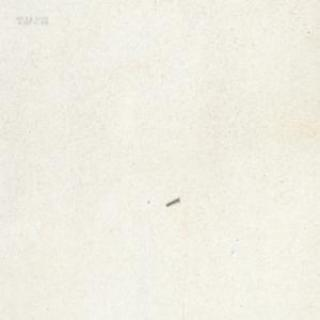Bolttrack_idkeyframe: (164, 197, 178, 207)
